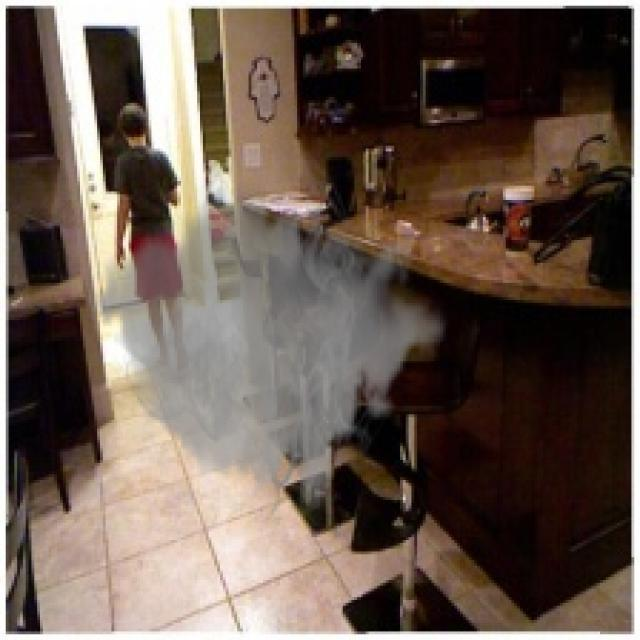Smoke: (94, 154, 449, 523)
